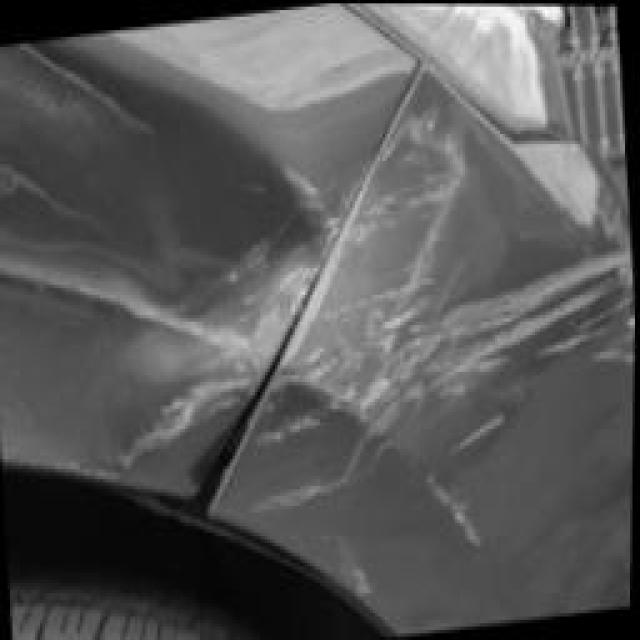Bumper: (235, 77, 640, 623)
Fender: (98, 57, 350, 471)
